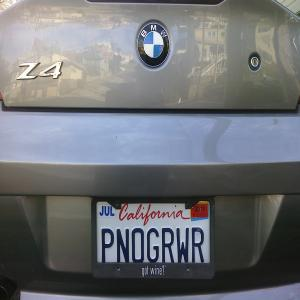Vehicle-registration-plate: (95, 199, 216, 283)
